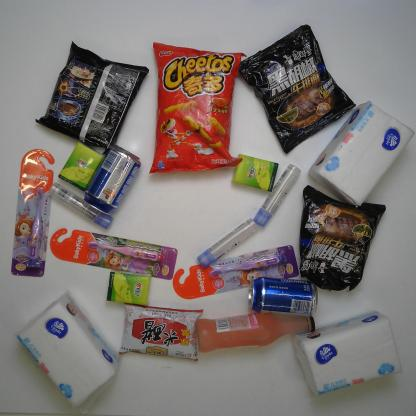Alcohol: (194, 312, 321, 356), (247, 269, 326, 322), (83, 144, 144, 212)
Instant Noodles: (236, 22, 355, 152), (35, 37, 152, 152), (293, 181, 388, 294)
Personal Hygiene: (45, 223, 184, 283), (168, 242, 300, 302), (7, 146, 59, 279)
Puffed Food: (147, 36, 246, 174)
Seasoner: (115, 300, 208, 362)
Stationery: (42, 177, 118, 231), (192, 212, 262, 269), (252, 160, 305, 229)
Tissue: (11, 293, 123, 410), (308, 96, 415, 208), (290, 314, 407, 398), (59, 134, 110, 192), (97, 267, 156, 311), (228, 148, 281, 192)
